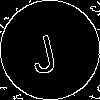J: (25, 25, 60, 76)
